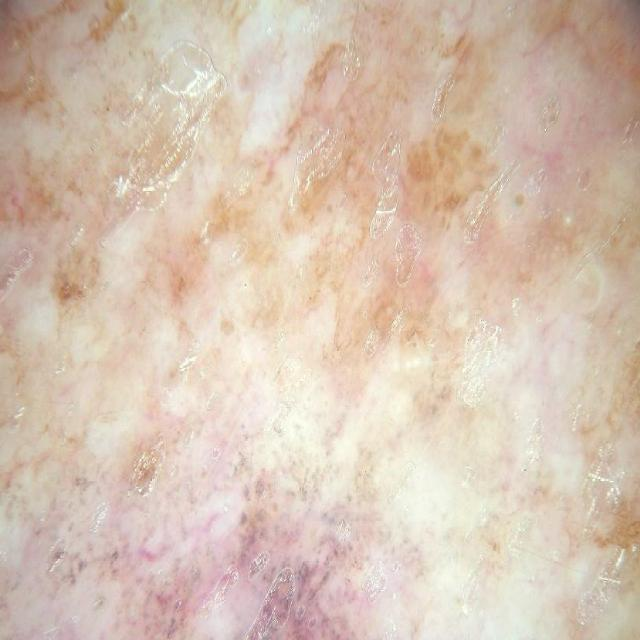Melanoma: (72, 198, 333, 640)
